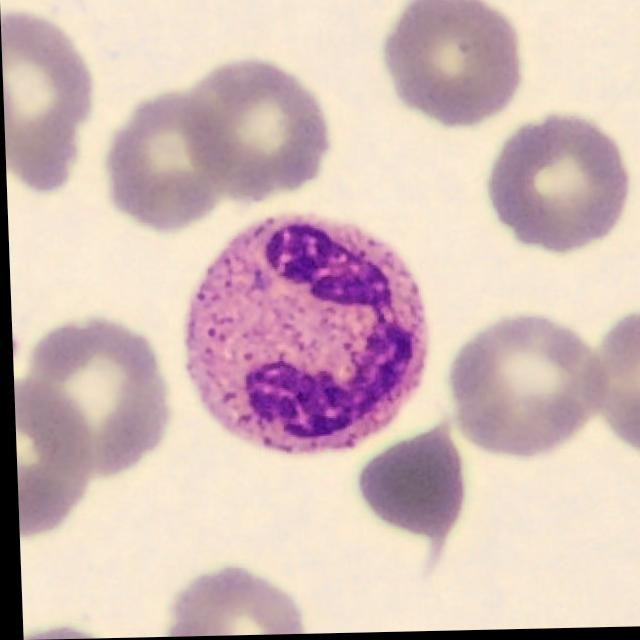Neutrofilo segmentado: (182, 215, 428, 456)
